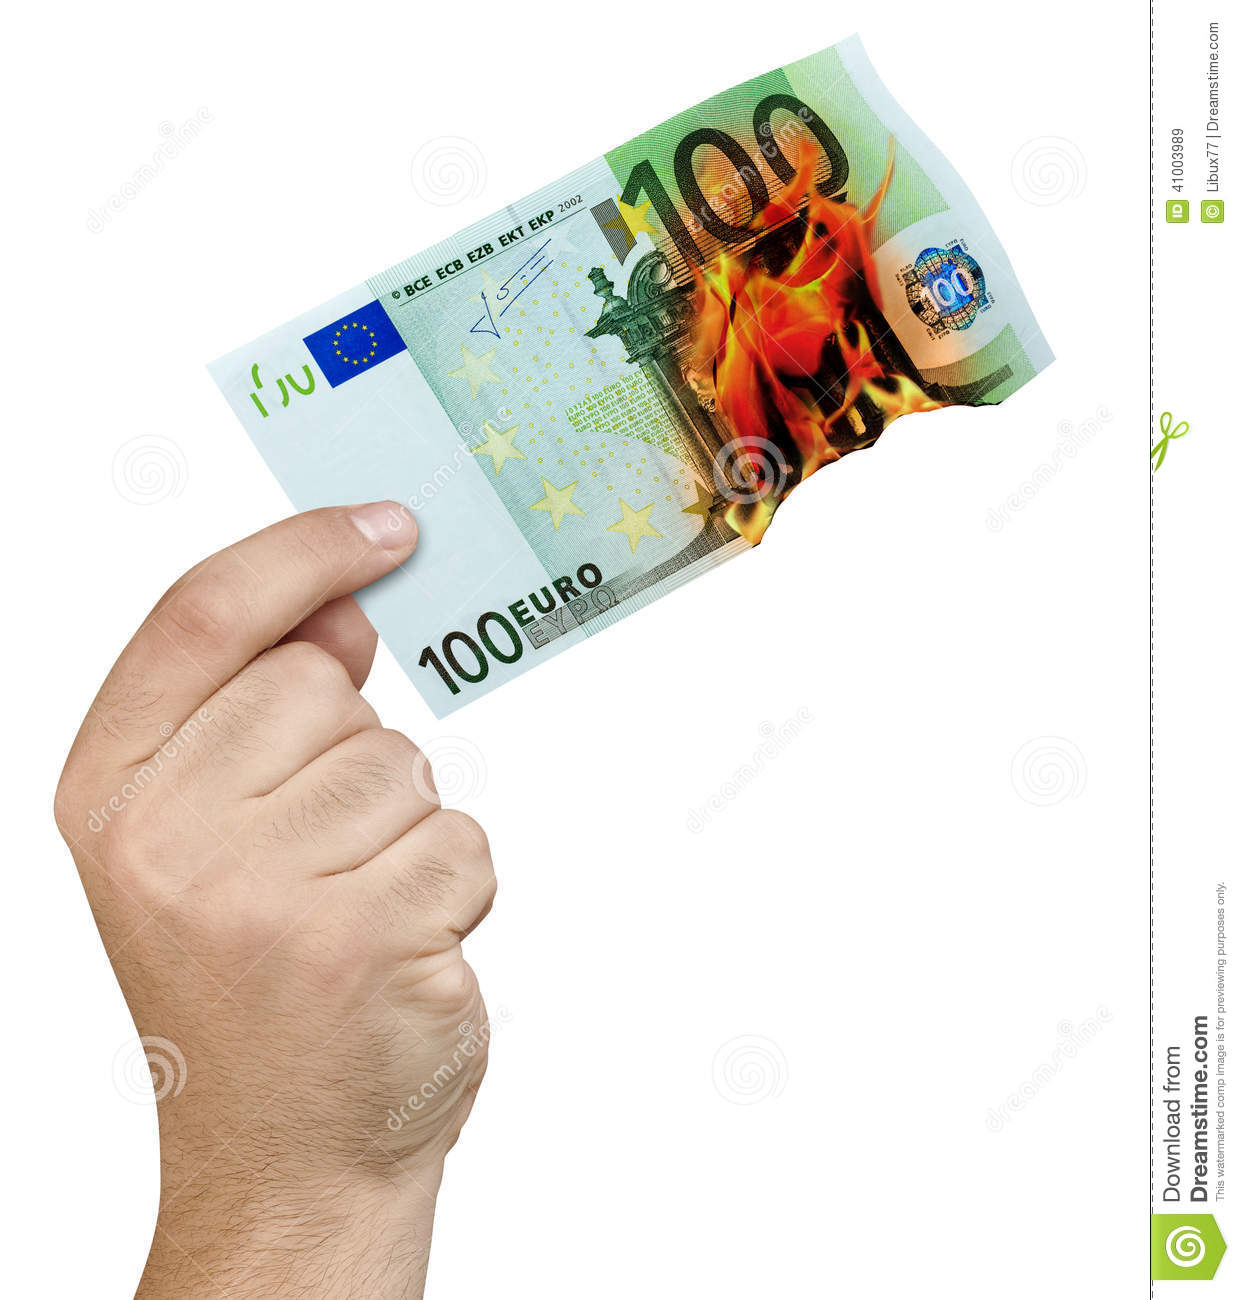billete: (202, 27, 1064, 727)
